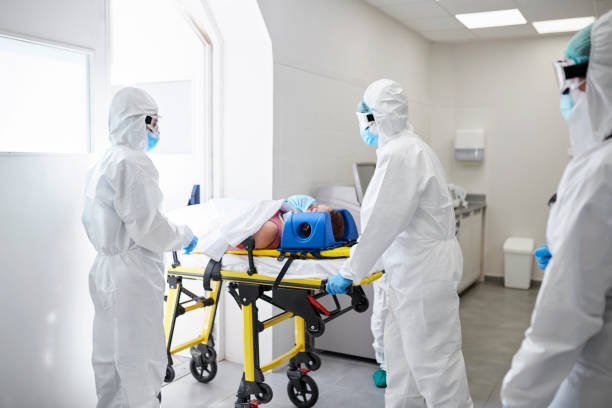dispenser: (454, 126, 483, 160)
hospital_bed: (147, 238, 388, 408)
patient: (172, 191, 363, 251)
staff: (326, 76, 483, 408), (496, 11, 612, 408), (84, 87, 195, 408)
waste_bin: (501, 234, 534, 292)
